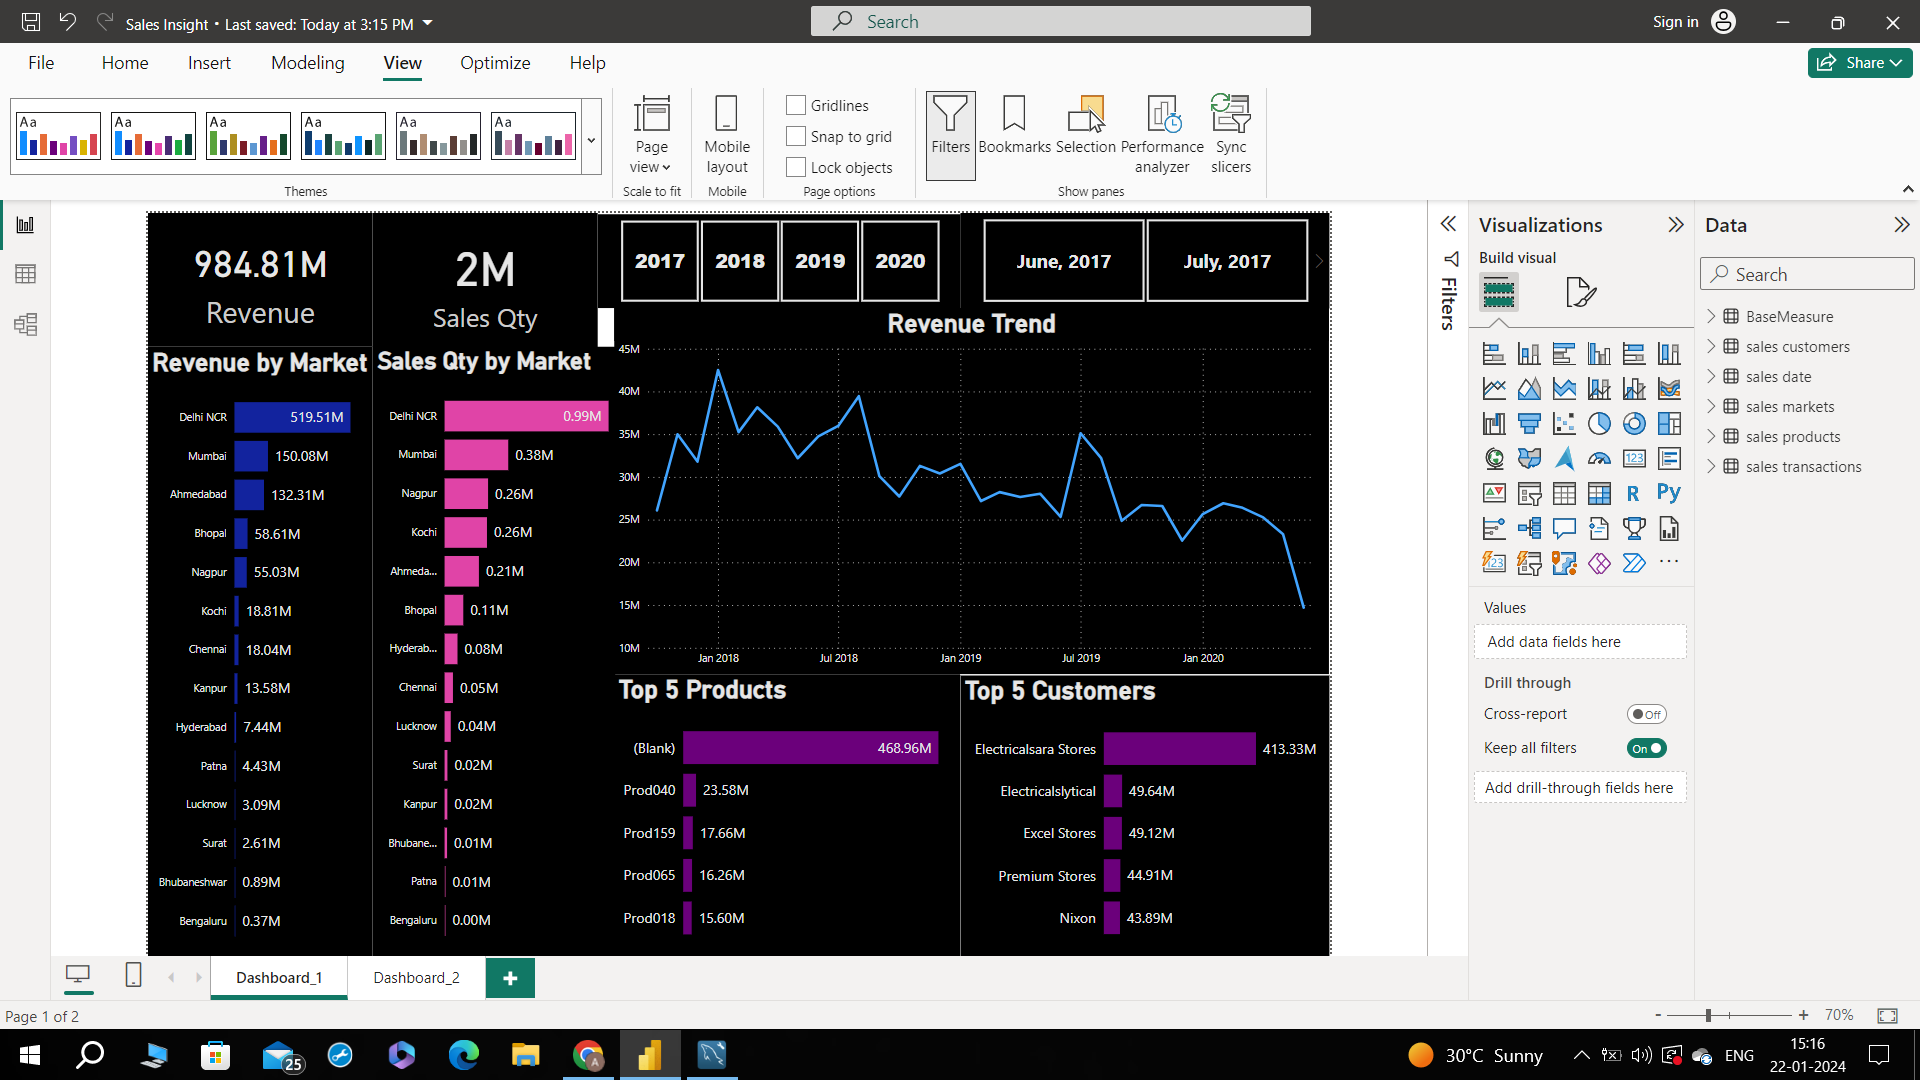

Layout of this report page (visuals, bound fields, positions):
{"tool":"powerbi","page":{"name":"Dashboard_1","canvas":[1350,850],"ordinal":0},"visuals":[{"type":"card","fields":{"Values":["BaseMeasure.Revenue"]},"box":[0,0,257.1,152.9],"z":0},{"type":"card","fields":{"Values":["BaseMeasure.Sales Qty"]},"box":[256.7,0,256.7,153.3],"z":1000},{"type":"barChart","title":"Revenue by Market","fields":{"Y":["BaseMeasure.Revenue"],"Category":["sales markets.markets_name"]},"box":[0,152.9,257.1,697.1],"z":2000},{"type":"barChart","title":"Sales Qty by Market","fields":{"Y":["BaseMeasure.Sales Qty"],"Category":["sales markets.markets_name"]},"box":[256.7,153.3,276.7,696.7],"z":3000},{"type":"slicer","title":"Year","fields":{"Values":["sales date.year"]},"box":[514.3,1.4,414.3,107.1],"z":4000},{"type":"slicer","fields":{"Values":["sales date.cy_date"]},"box":[928.6,0,421.4,108.6],"z":5000},{"type":"barChart","title":"Top 5 Customers","fields":{"Y":["BaseMeasure.Revenue"],"Category":["sales customers.custmer_name"]},"box":[928.6,528.6,421.4,321.4],"z":6000},{"type":"barChart","title":"Top 5 Products","fields":{"Y":["BaseMeasure.Revenue"],"Category":["sales products.product_code"]},"box":[533.3,526.7,395,323.3],"z":7000},{"type":"lineChart","title":"Revenue Trend","fields":{"Y":["BaseMeasure.Revenue"],"Category":["sales date.cy_date"]},"box":[532.9,108.6,817.1,418.6],"z":8000}]}

Visuals, with their boxes on the page's 1350x850 design canvas (x1, y1, x2, y2). These are canvas units, not pixel positions in the 1920x1080 screenshot, which may show the page scaled, cropped or inside an application window:
card - BaseMeasure.Revenue: (0, 0, 257, 153)
card - BaseMeasure.Sales Qty: (257, 0, 513, 153)
"Revenue by Market" barChart: (0, 153, 257, 850)
"Sales Qty by Market" barChart: (257, 153, 533, 850)
"Year" slicer: (514, 1, 929, 108)
slicer - sales date.cy_date: (929, 0, 1350, 109)
"Top 5 Customers" barChart: (929, 529, 1350, 850)
"Top 5 Products" barChart: (533, 527, 928, 850)
"Revenue Trend" lineChart: (533, 109, 1350, 527)
